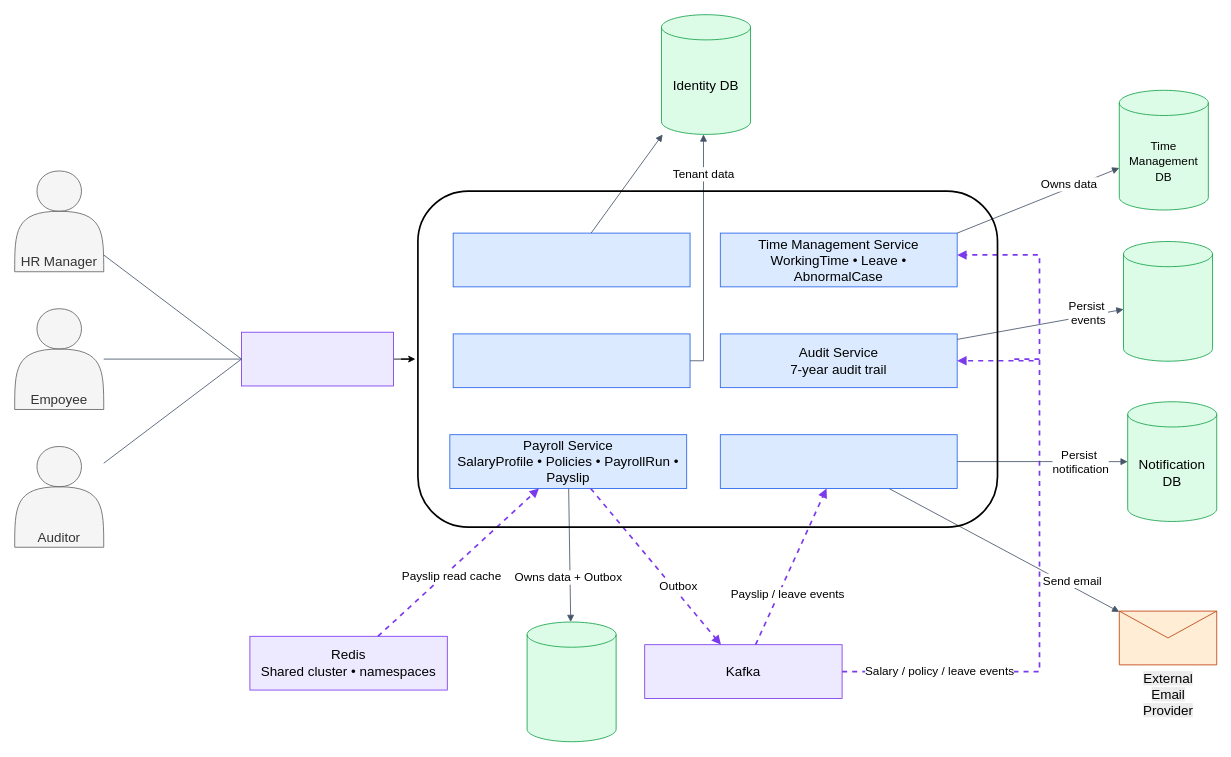
Some shapes in this 1231 by 757 pixel diagram are drawn without their labels. Each missing label, with the centre of its shape:
"API Gateway Routing • Rate limit" goes at (x=317, y=358).
"Audit DB" goes at (x=1168, y=301).
"Identity Service User • Employee • Job • RBAC" goes at (x=571, y=259).
"Notification Service Email notification" goes at (x=838, y=461).
"Payroll DB + Outbox" goes at (x=571, y=681).
"Tenant Context Deployed with Identity" goes at (x=571, y=360).
